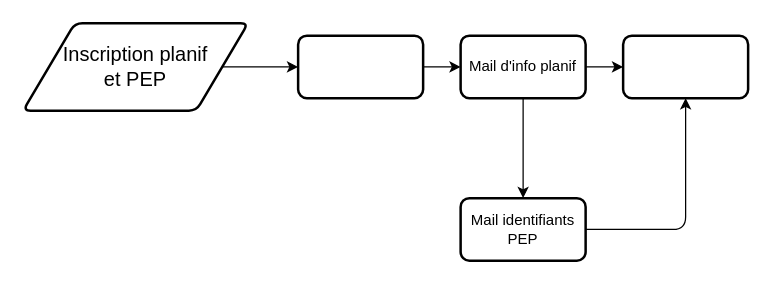
The diagram is 770 pixels wide and 283 high, and some of its shapes have lost their labels. Here are the shapes that lost their labels. From the top down, the box of each, then its label:
(296, 34, 424, 99): Mail de bienvenu
(621, 34, 749, 99): Mail d'info / questions supp.
